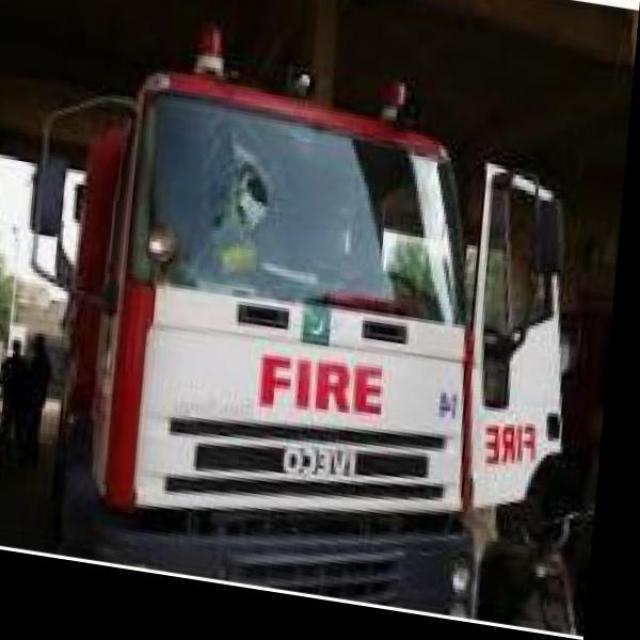emergency: (31, 64, 471, 622)
